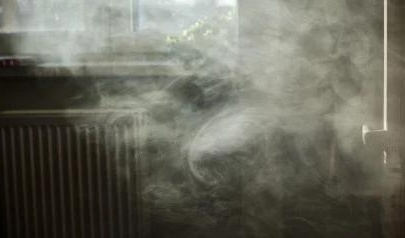smoke: (121, 3, 398, 169)
